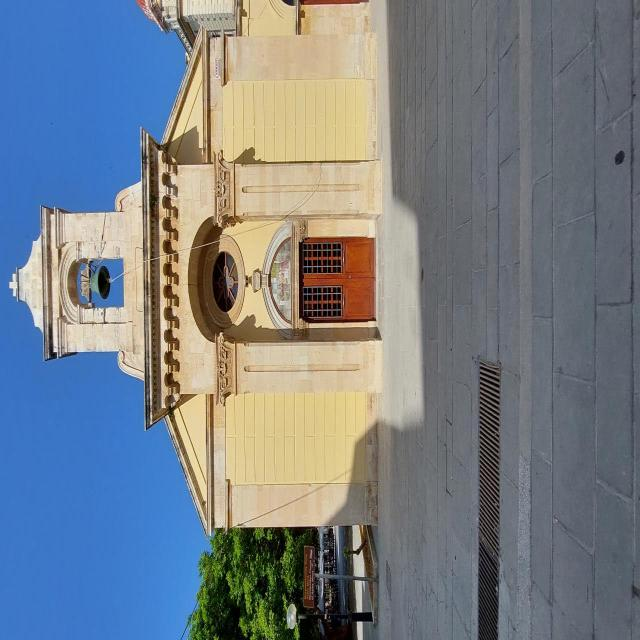Agios Minas: (40, 1, 289, 640)
